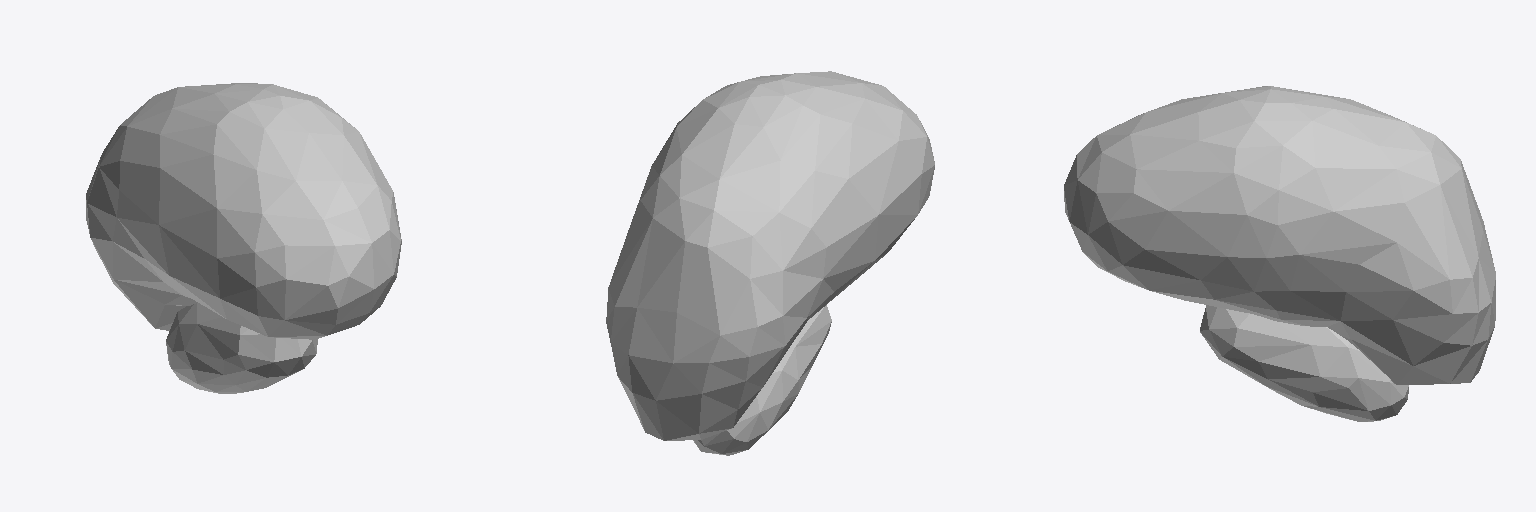
File: brain.obj
3 renders of one model, left to right at view 1: azimuth 30°, elevation 25°; view 2: azimuth 150°, elevation 25°; view 3: azimuth 270°, elevation 25°, orthographic.
Parts seen in each view (by area): view 1: Sphere.002_Sphere.003; view 2: Sphere.002_Sphere.003; view 3: Sphere.002_Sphere.003.
Boxes of the visible parts, x1,y1,x2,y2 form: Sphere.002_Sphere.003: [86, 83, 401, 393]; Sphere.002_Sphere.003: [606, 71, 934, 455]; Sphere.002_Sphere.003: [1064, 86, 1495, 421].
Size of the model in its own units: 4.22 by 6.27 by 7.61.